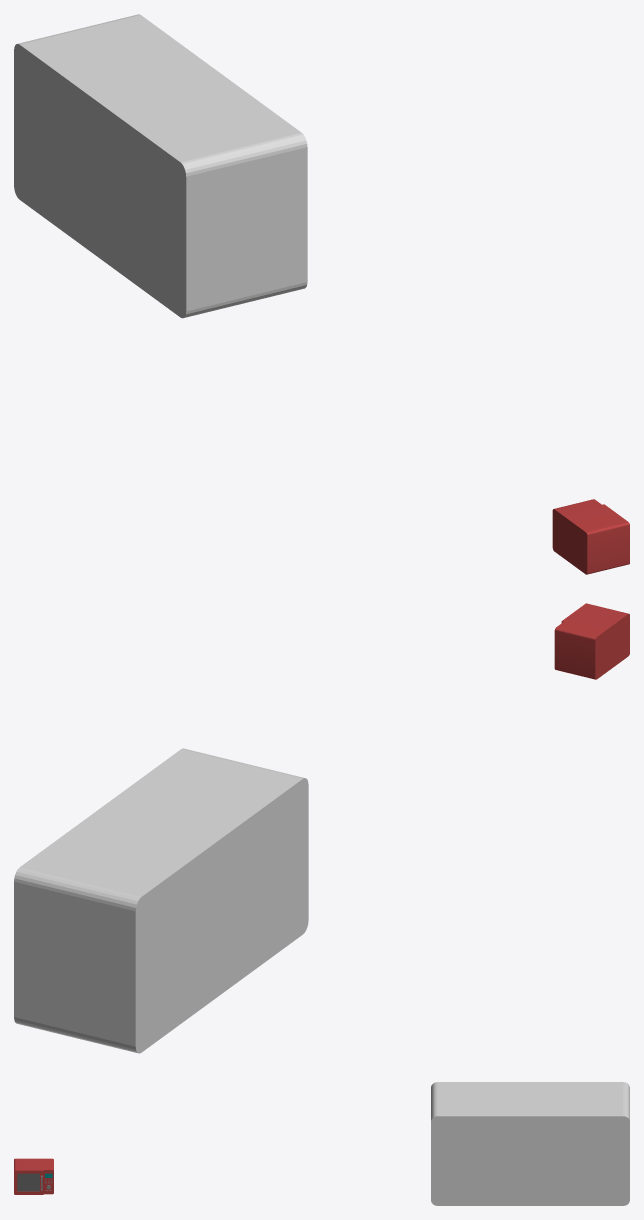
The picture shows the model from 3 angles, top to bottom: view 1: azimuth 30°, elevation 25°; view 2: azimuth 150°, elevation 25°; view 3: azimuth 270°, elevation 25°; orthographic projection. The views are drawn at different scales.
Parts seen in each view (by area): view 1: Cube, Box; view 2: Cube, Box; view 3: Cube.001, Cube, Box, Inter, Tutup, Button Panel.
Boxes of the visible parts, bbox=[...] form: Cube: bbox=[14, 14, 307, 318]; Box: bbox=[552, 499, 627, 574]; Cube: bbox=[14, 748, 308, 1053]; Box: bbox=[554, 604, 629, 679]; Cube.001: bbox=[431, 1116, 629, 1205]; Cube: bbox=[431, 1082, 629, 1120]; Box: bbox=[14, 1158, 53, 1170]; Inter: bbox=[17, 1173, 39, 1191]; Tutup: bbox=[14, 1170, 43, 1194]; Button Panel: bbox=[43, 1170, 53, 1194].
Size of the model in its own units: 163 by 201 by 1238.
